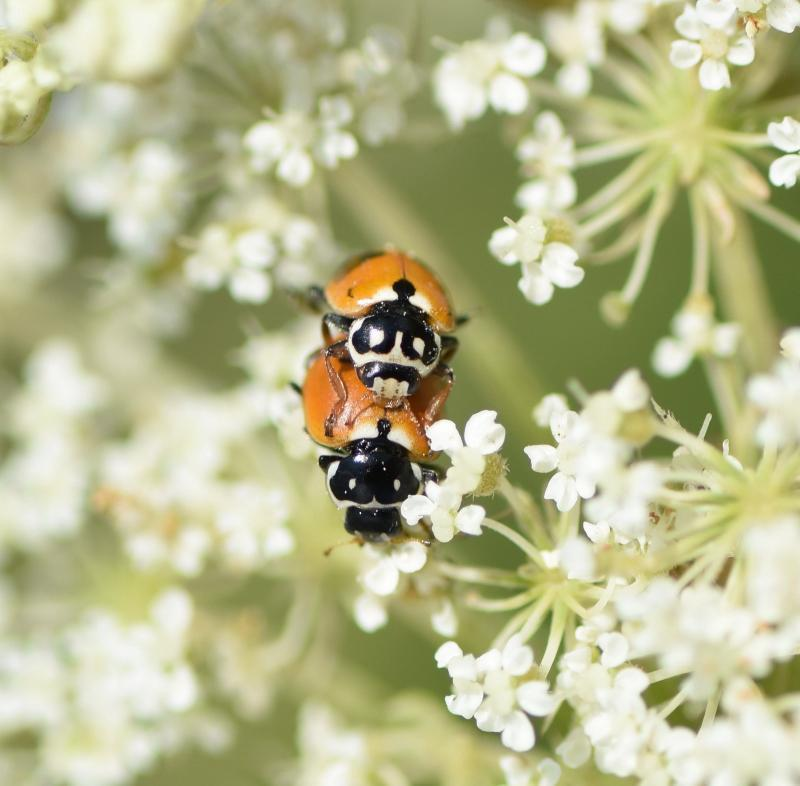ladybug: (291, 331, 454, 561), (309, 245, 472, 443)
